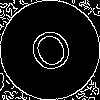O: (25, 25, 81, 84)
